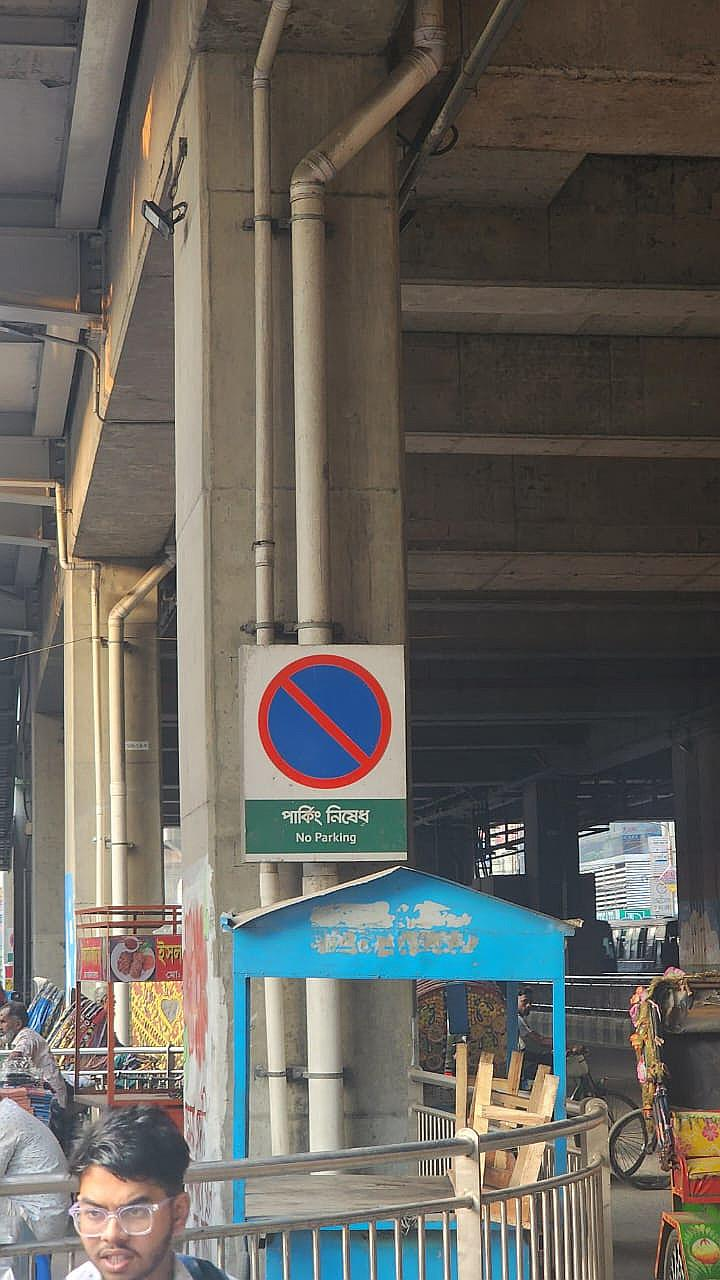No Parking: (239, 653, 411, 857)
